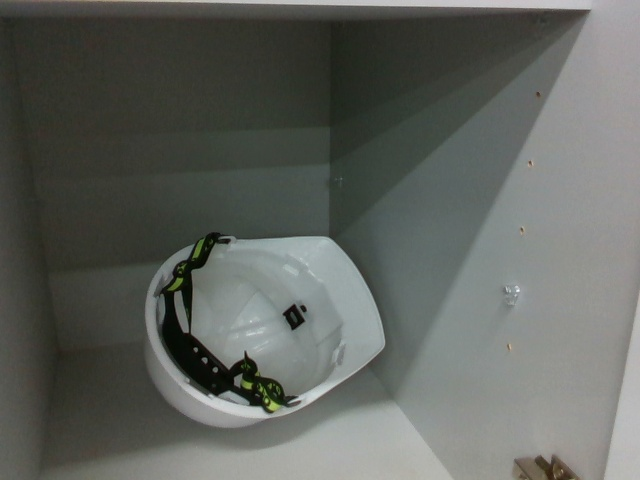helmet: (135, 229, 387, 434)
